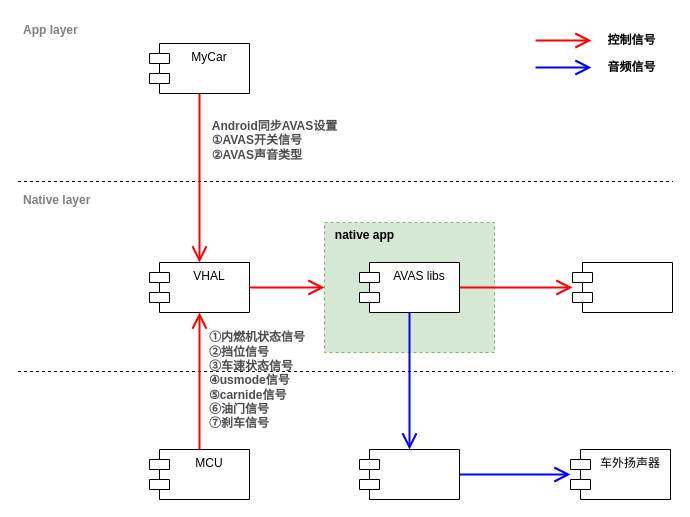
Image size: 690x517. Some labels were removed from this diagram. The centre of each missing label's shape, as x and y in pixels:
"ADSP" goes at (409,474).
"AVAS 预览音存储" goes at (622,287).
